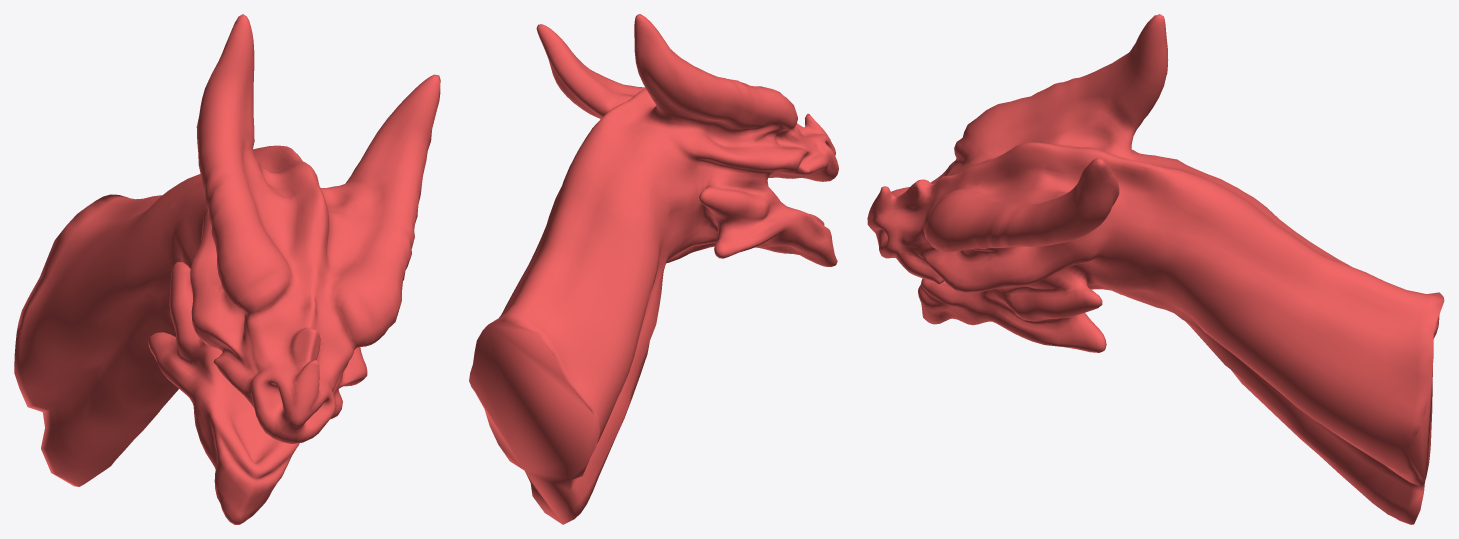
The model's file is Dragon_Cabeza_C.obj.
The picture shows the model from 3 angles, left to right: view 1: azimuth 30°, elevation 25°; view 2: azimuth 150°, elevation 25°; view 3: azimuth 270°, elevation 25°; orthographic projection. The views are drawn at different scales.
Parts seen in each view (by area): view 1: Dragon_Cabeza_C; view 2: Dragon_Cabeza_C; view 3: Dragon_Cabeza_C.
Boxes of the visible parts, x1,y1,x2,y2 form: Dragon_Cabeza_C: [14, 14, 440, 524]; Dragon_Cabeza_C: [469, 14, 838, 524]; Dragon_Cabeza_C: [867, 14, 1444, 524].
Size of the model in its own units: 1.5 by 2.65 by 2.63.
